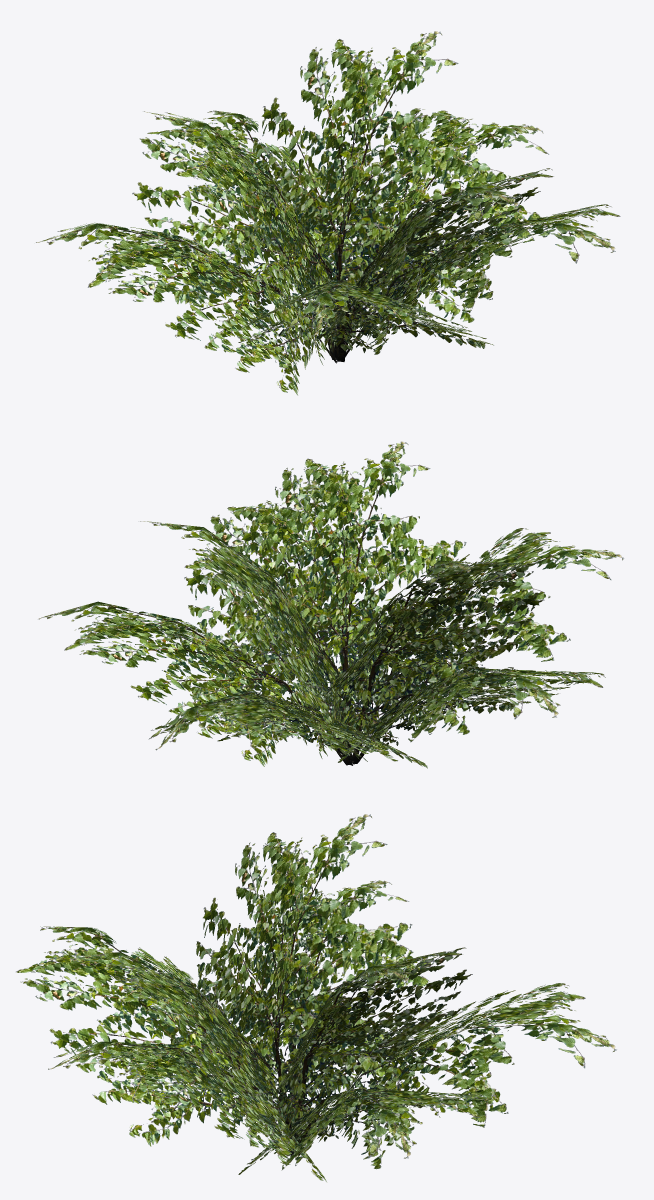
The model's file is Bush3.fbx.
3 views of the same model, one above another, from view 1: azimuth 30°, elevation 25°; view 2: azimuth 150°, elevation 25°; view 3: azimuth 270°, elevation 25° (orthographic). The views are drawn at different scales.
Parts seen in each view (by area): view 1: pPlane75; view 2: pPlane75; view 3: pPlane75.
Part boxes in pixels (x1=…): pPlane75: x1=36, y1=31, x2=620, y2=395; pPlane75: x1=38, y1=441, x2=624, y2=768; pPlane75: x1=16, y1=814, x2=616, y2=1181.
Size of the model in its own units: 359 by 168 by 349.
